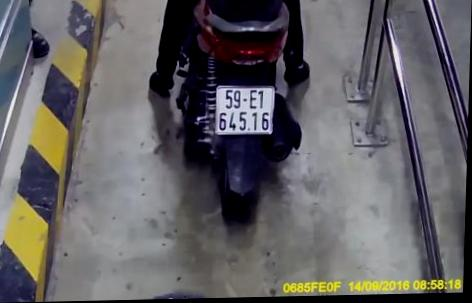License_Plate: (206, 79, 283, 141)
